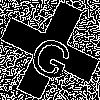G: (25, 25, 81, 84)
